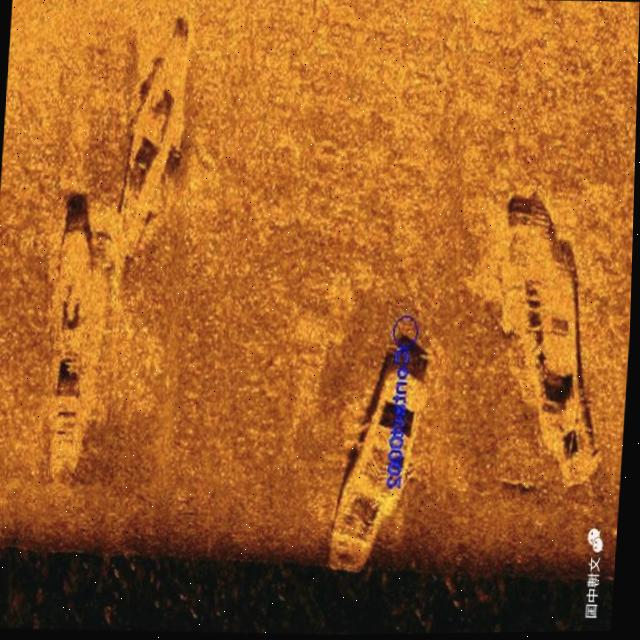shipwreck: (480, 195, 621, 494), (323, 349, 433, 577), (110, 17, 193, 292), (33, 201, 107, 488)
